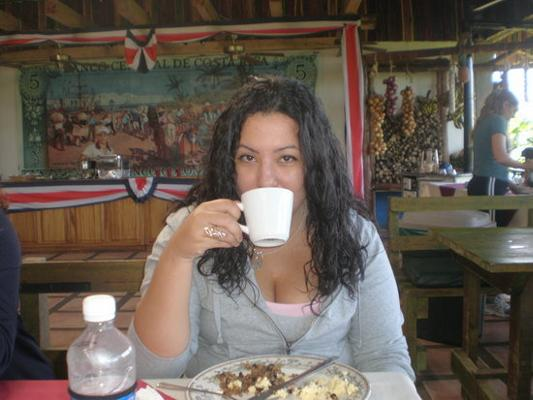person: (123, 79, 419, 385)
